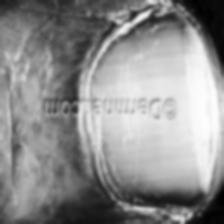Toxin: (182, 18, 222, 204)
